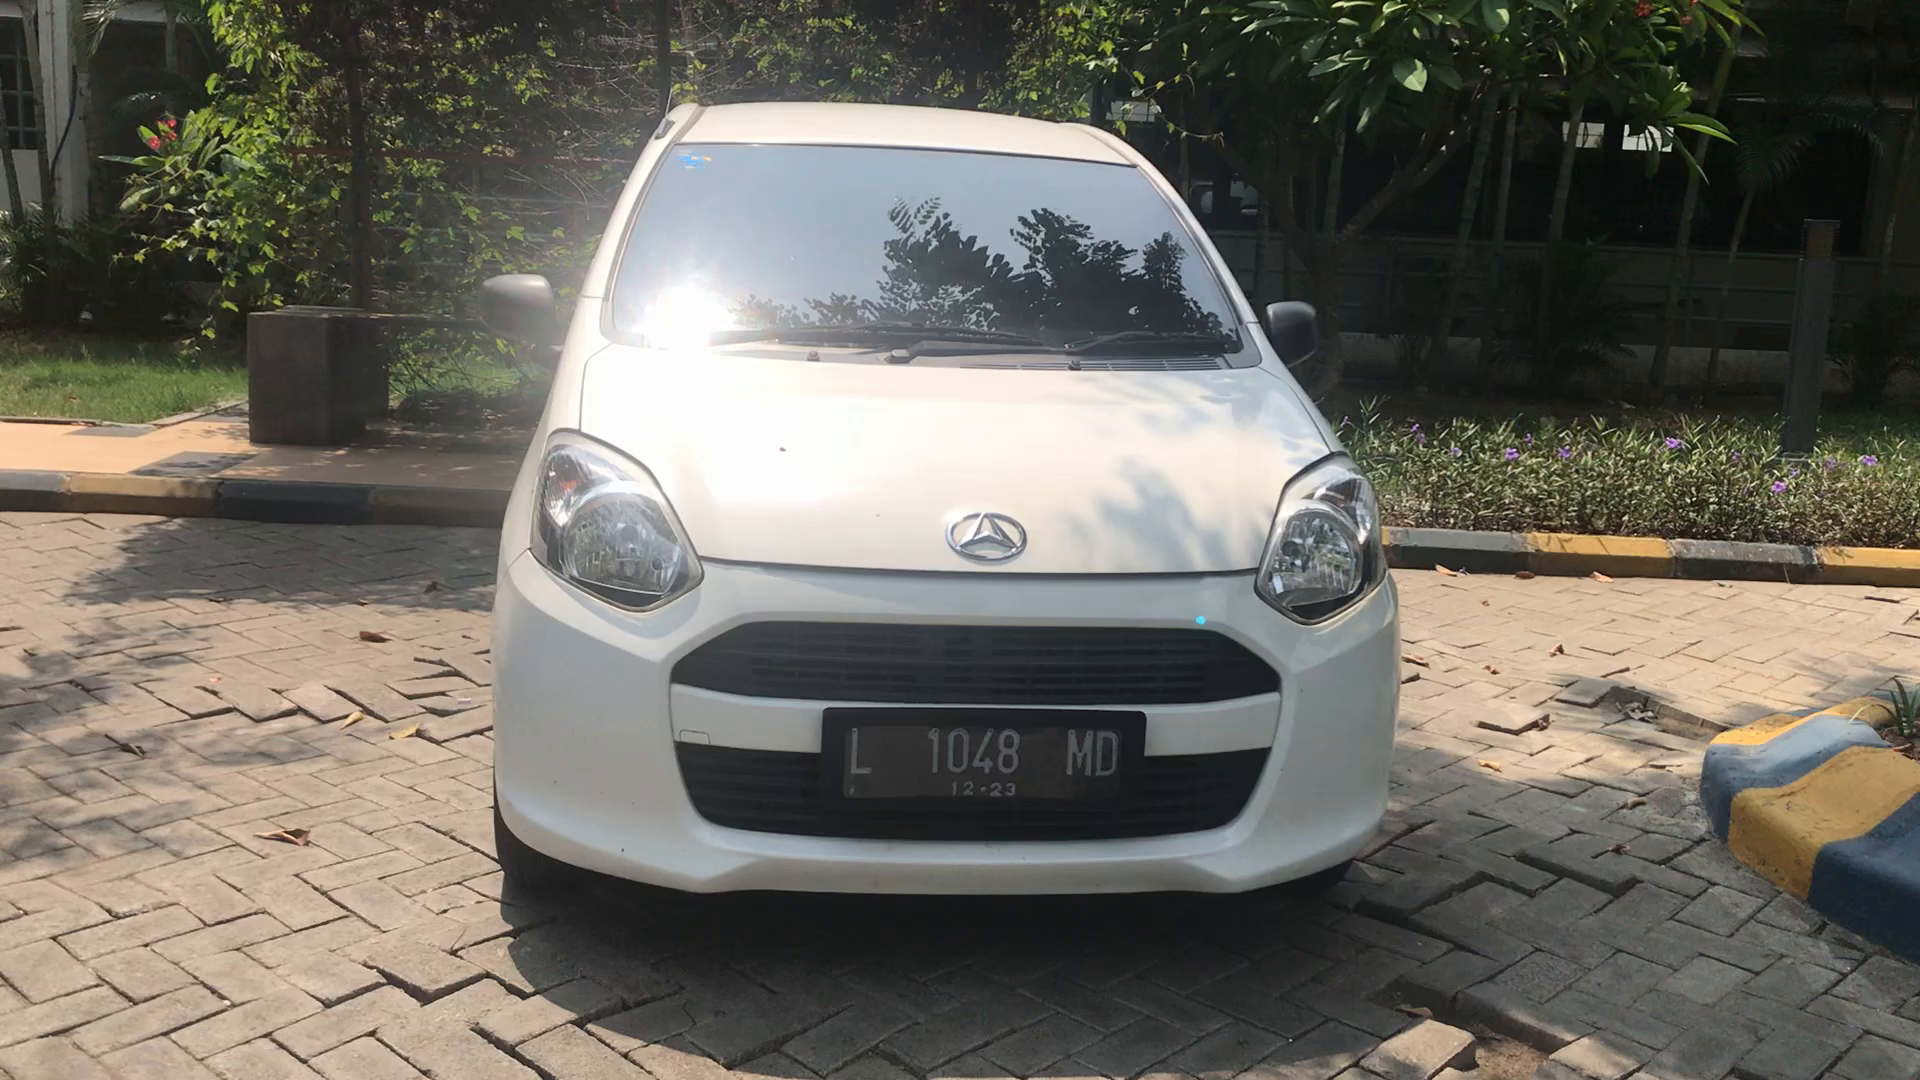plate: (827, 705, 1145, 800)
